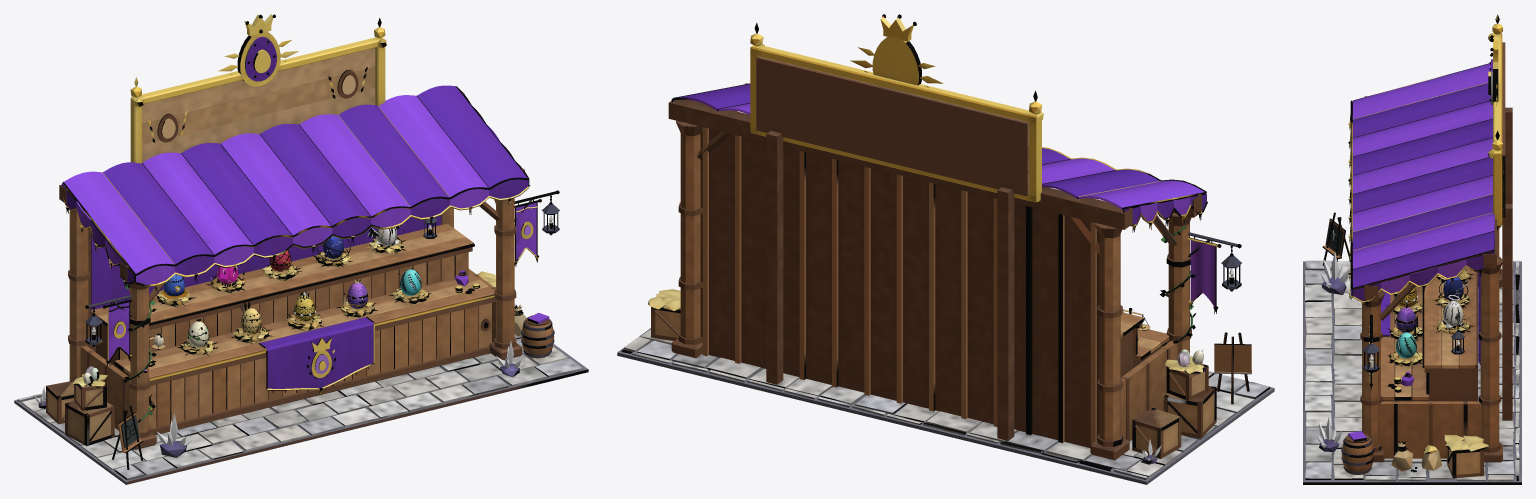
Rendered from stall_eggs.fbx.
The picture shows the model from 3 angles, left to right: view 1: azimuth 30°, elevation 25°; view 2: azimuth 150°, elevation 25°; view 3: azimuth 270°, elevation 25°; orthographic projection. The views are drawn at different scales.
Parts seen in each view (by area): view 1: stall_eggs_cloth, stall_eggs_body, stall_eggs_props, stall_eggs_eggs, stall_eggs_eggs_top; view 2: stall_eggs_body, stall_eggs_cloth, stall_eggs_props; view 3: stall_eggs_body, stall_eggs_cloth, stall_eggs_props, stall_eggs_eggs, stall_eggs_eggs_top, stall_eggs_body9_glow, stall_eggs_body10_glow.
Boxes of the visible parts, bbox=[...] form: stall_eggs_cloth: bbox=[62, 14, 541, 396]; stall_eggs_body: bbox=[14, 92, 588, 484]; stall_eggs_props: bbox=[38, 190, 559, 469]; stall_eggs_eggs: bbox=[177, 269, 431, 355]; stall_eggs_eggs_top: bbox=[155, 225, 419, 333]; stall_eggs_body: bbox=[617, 83, 1274, 484]; stall_eggs_cloth: bbox=[671, 14, 1221, 440]; stall_eggs_props: bbox=[648, 226, 1251, 464]; stall_eggs_body: bbox=[1303, 64, 1521, 484]; stall_eggs_cloth: bbox=[1348, 14, 1512, 420]; stall_eggs_props: bbox=[1319, 212, 1488, 478]; stall_eggs_eggs: bbox=[1385, 285, 1422, 366]; stall_eggs_eggs_top: bbox=[1397, 269, 1474, 345]; stall_eggs_body9_glow: bbox=[1318, 252, 1338, 447]; stall_eggs_body10_glow: bbox=[1317, 263, 1349, 443].
Bounding box in the file's own units: 3525 × 2441 × 1440.
2 materials, 1 textured.
